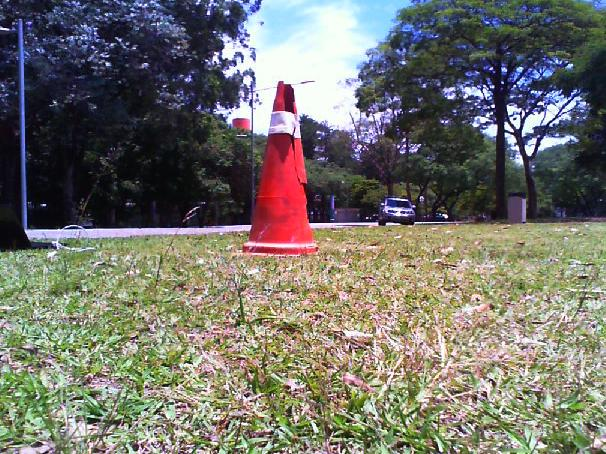0 cone: (234, 80, 320, 258)
